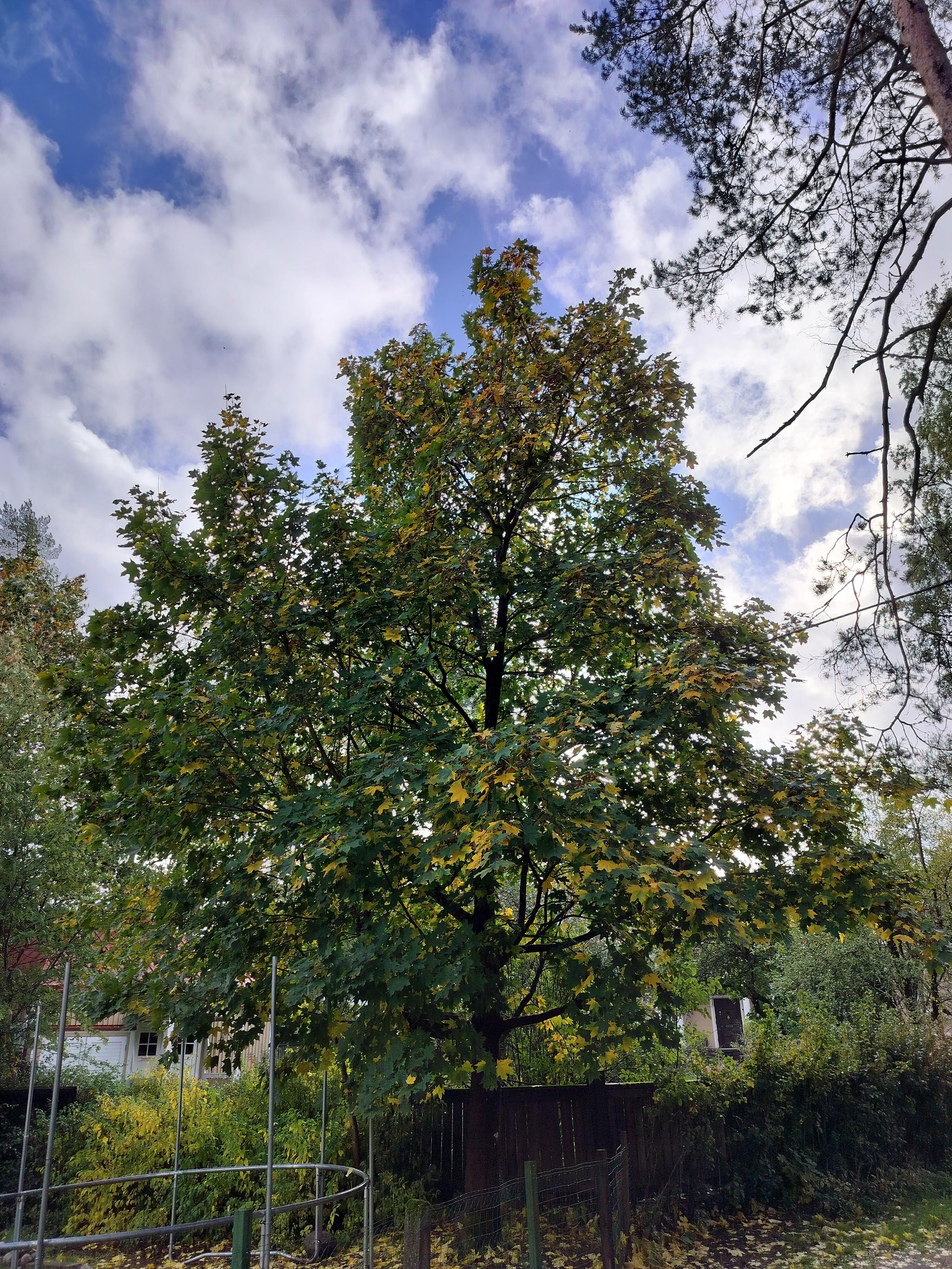Maple: (100, 234, 808, 1145)
